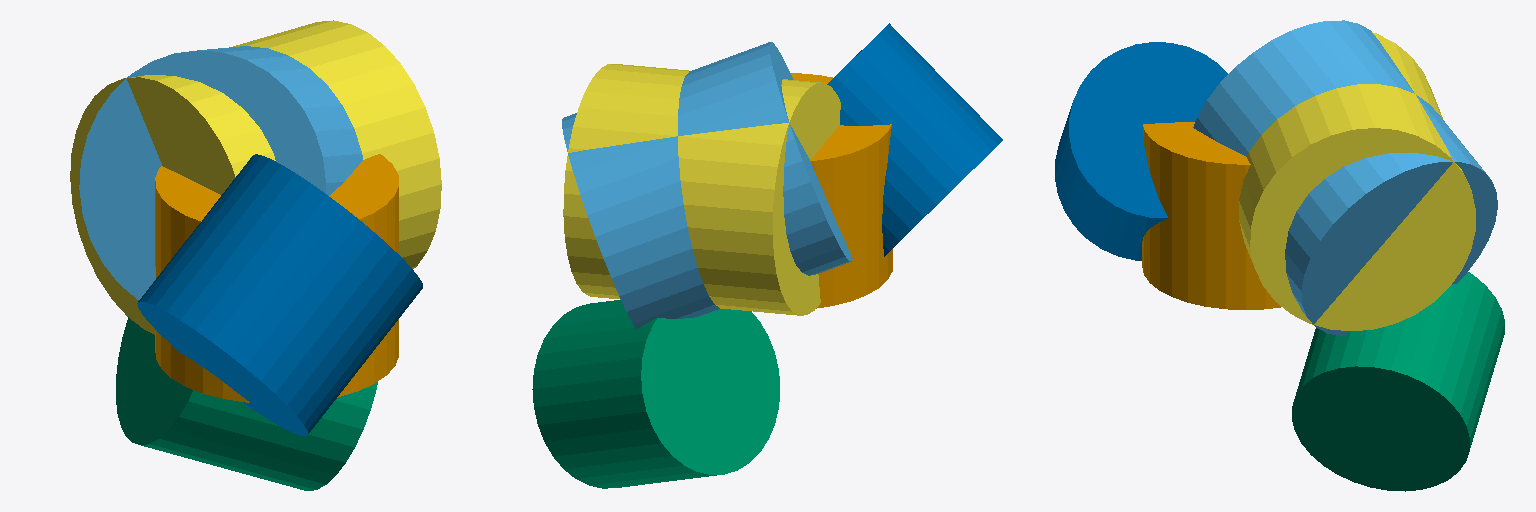
The robot description file, URDF, robot "pepe":
<?xml version="1.0"?><robot name="pepe">
	<link name="0">
		<visual>
			<geometry>
				<cylinder length="1.3210271354763845" radius="0.8549868949668232"/>
			</geometry>
		</visual>
		<collision>
			<geometry>
				<cylinder length="1.3210271354763845" radius="0.8549868949668232"/>
			</geometry>
		</collision>
		<inertial>
			<mass value="3.0337551554472775"/>
			<inertia ixx="0.03" iyy="0.03" izz="0.03" ixy="0" ixz="0" iyx="0"/>
		</inertial>
	</link>
	<link name="11">
		<visual>
			<geometry>
				<cylinder length="1.7966245945028012" radius="0.9489423247712325"/>
			</geometry>
		</visual>
		<collision>
			<geometry>
				<cylinder length="1.7966245945028012" radius="0.9489423247712325"/>
			</geometry>
		</collision>
		<inertial>
			<mass value="5.08261072143375"/>
			<inertia ixx="0.03" iyy="0.03" izz="0.03" ixy="0" ixz="0" iyx="0"/>
		</inertial>
	</link>
	<link name="22">
		<visual>
			<geometry>
				<cylinder length="1.3210271354763845" radius="0.7549868949668233"/>
			</geometry>
		</visual>
		<collision>
			<geometry>
				<cylinder length="1.3210271354763845" radius="0.7549868949668233"/>
			</geometry>
		</collision>
		<inertial>
			<mass value="2.3655952407784353"/>
			<inertia ixx="0.03" iyy="0.03" izz="0.03" ixy="0" ixz="0" iyx="0"/>
		</inertial>
	</link>
	<link name="13">
		<visual>
			<geometry>
				<cylinder length="1.7966245945028012" radius="0.9489423247712325"/>
			</geometry>
		</visual>
		<collision>
			<geometry>
				<cylinder length="1.7966245945028012" radius="0.9489423247712325"/>
			</geometry>
		</collision>
		<inertial>
			<mass value="5.08261072143375"/>
			<inertia ixx="0.03" iyy="0.03" izz="0.03" ixy="0" ixz="0" iyx="0"/>
		</inertial>
	</link>
	<link name="24">
		<visual>
			<geometry>
				<cylinder length="1.3210271354763845" radius="0.7549868949668233"/>
			</geometry>
		</visual>
		<collision>
			<geometry>
				<cylinder length="1.3210271354763845" radius="0.7549868949668233"/>
			</geometry>
		</collision>
		<inertial>
			<mass value="2.3655952407784353"/>
			<inertia ixx="0.03" iyy="0.03" izz="0.03" ixy="0" ixz="0" iyx="0"/>
		</inertial>
	</link>
	<joint name="11_to_0" type="revolute">
		<parent link="0"/>
		<child link="11"/>
		<axis xyz="1 0 0"/>
		<limit effort="1" upper="-3.1415" lower="3.1415" velocity="1"/>
		<origin rpy="7.267383642417107 2.2567124251757202 1.6841347499928716" xyz="0.29027910459329453 0.7997746468004846 0.27250180589683015"/>
	</joint>
	<joint name="22_to_11" type="revolute">
		<parent link="11"/>
		<child link="22"/>
		<axis xyz="0 1 0"/>
		<limit effort="1" upper="-3.1415" lower="3.1415" velocity="1"/>
		<origin rpy="6.923334363340418 3.5991304775359034 4.4871236248258555" xyz="0.9999 0.9999 0.9782963002248686"/>
	</joint>
	<joint name="13_to_0" type="revolute">
		<parent link="0"/>
		<child link="13"/>
		<axis xyz="1 0 0"/>
		<limit effort="1" upper="-3.1415" lower="3.1415" velocity="1"/>
		<origin rpy="10.90107546362566 2.2567124251757202 1.6841347499928716" xyz="0.29027910459329453 0.7997746468004846 0.27250180589683015"/>
	</joint>
	<joint name="24_to_13" type="revolute">
		<parent link="13"/>
		<child link="24"/>
		<axis xyz="0 1 0"/>
		<limit effort="1" upper="-3.1415" lower="3.1415" velocity="1"/>
		<origin rpy="6.923334363340418 3.5991304775359034 4.4871236248258555" xyz="0.9999 0.9999 0.9782963002248686"/>
	</joint>
</robot>

--- Render facts (derived) ---
Views: 3 orthographic renders of the robot side by side, from view 1: azimuth 30°, elevation 25°; view 2: azimuth 150°, elevation 25°; view 3: azimuth 270°, elevation 25°.
Model pepe with 5 links and 4 joints (4 revolute), rooted at 0, posed all joints at 0.
Visible links, largest first — view 1: 24, 13, 11, 22, 0; view 2: 22, 13, 11, 24, 0; view 3: 13, 22, 11, 24, 0.
Boxes of the visible links, left/top/right/bottom form: 24: left=137, top=154, right=422, bottom=435; 13: left=70, top=20, right=441, bottom=334; 11: left=79, top=46, right=362, bottom=299; 22: left=116, top=317, right=377, bottom=490; 0: left=155, top=154, right=398, bottom=402; 22: left=532, top=300, right=779, bottom=488; 13: left=563, top=64, right=840, bottom=315; 11: left=562, top=42, right=852, bottom=328; 24: left=827, top=23, right=1002, bottom=256; 0: left=791, top=73, right=892, bottom=308; 13: left=1239, top=32, right=1475, bottom=330; 22: left=1292, top=272, right=1504, bottom=491; 11: left=1193, top=20, right=1497, bottom=336; 24: left=1055, top=42, right=1227, bottom=260; 0: left=1142, top=122, right=1280, bottom=309.
Bounding box of the posed robot: 2.99 × 3.71 × 3.8 m (x, y, z).
Geometry: primitives only (box / cylinder / sphere), no mesh files.
